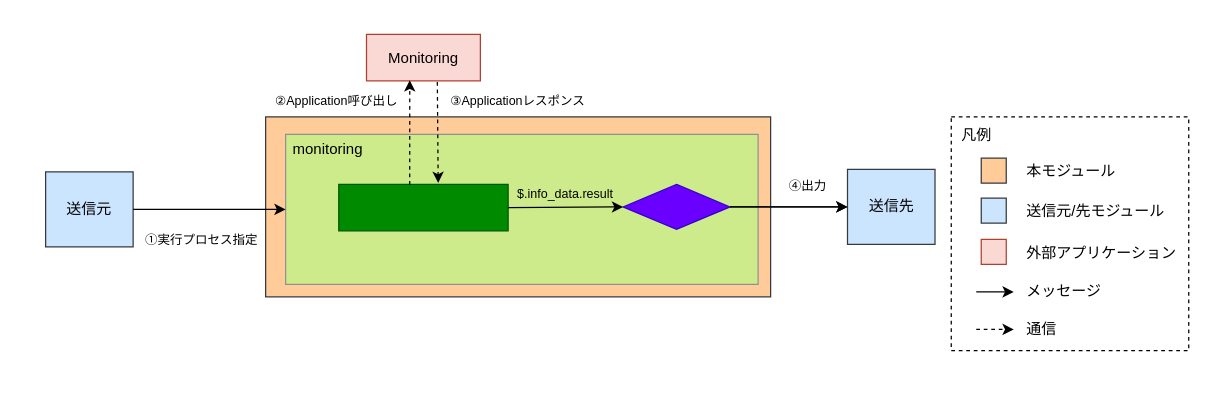
Image size: 1229x393. Some labels were removed from this diagram. Here are the shapes that lost their labels. From the top down, the box of each, then its label:
(338, 183, 508, 231): Monitoring 呼び出し
(622, 183, 730, 229): EQ("1")
